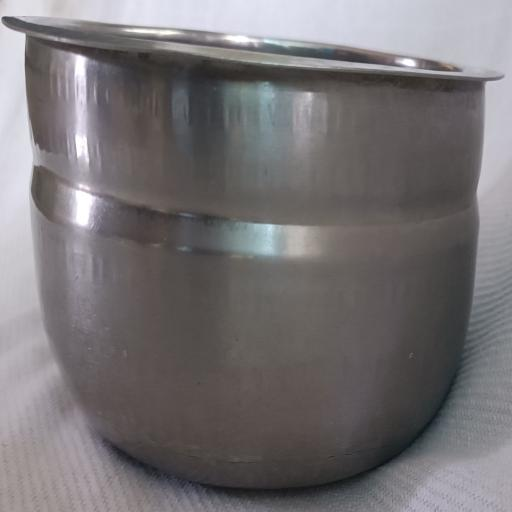vessel: (3, 17, 500, 487)
